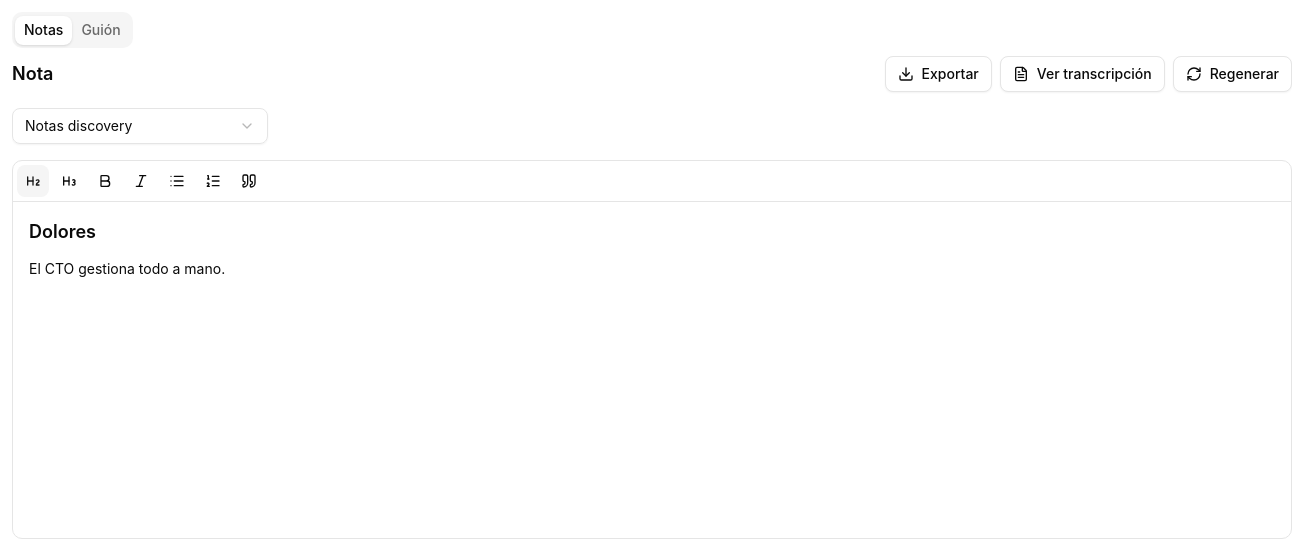
NoteScriptSections › tabs when both exist › shows the full Guión section (editor and Regenerar) when the "Guión" tab is clicked
The image size is (1304, 556).
Click the tab "Guión".
click(101, 30)  # box [72,16,130,44]
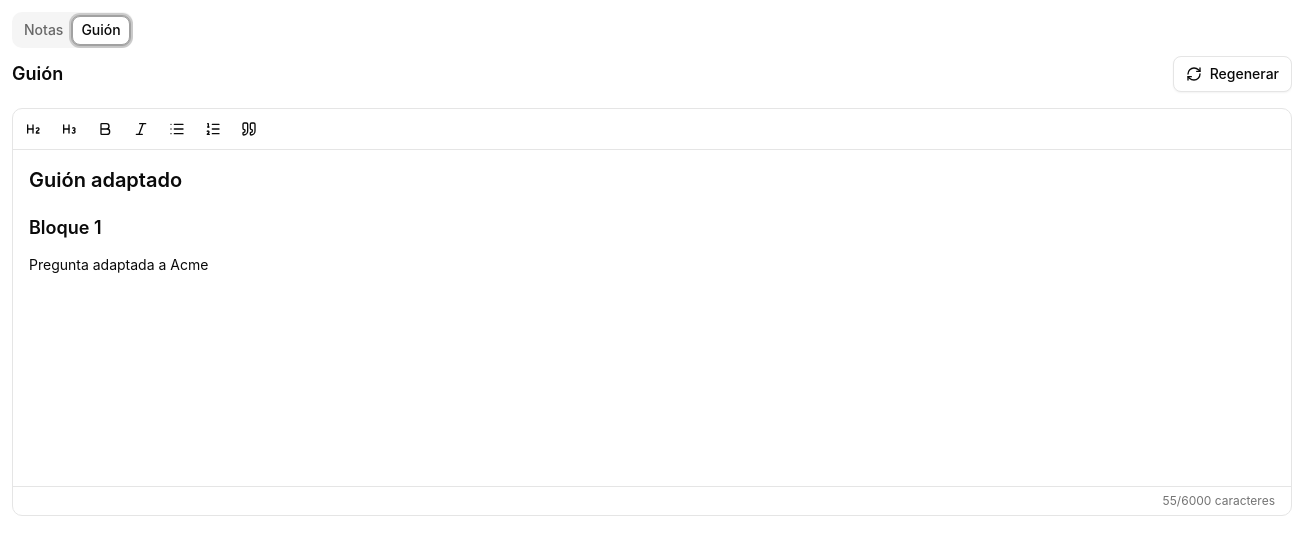
Expected: the button with test id "script-regenerate-button" is shown, [1173,56,1292,92]
Now the text box "Pregunta adaptada a Acme" is shown, box [29,256,208,273]
Now the element with test id "script-markdown-editor" is shown
